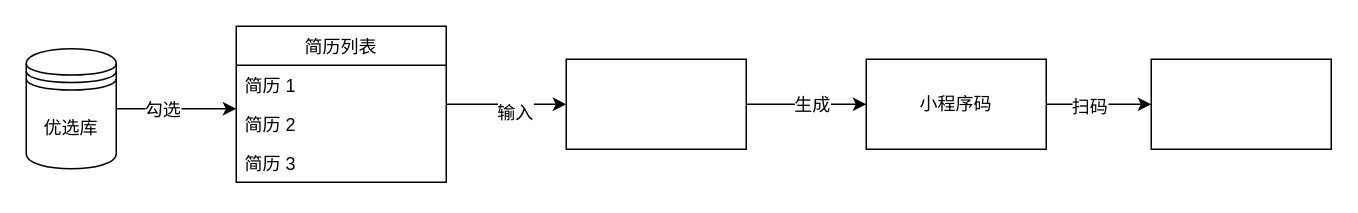
The diagram is 1358 pixels wide and 213 high, and some of its shapes have lost their labels. Each missing label, with the centre of its shape:
"小程序页面" belongs at (x=1240, y=103).
"评语" belongs at (x=655, y=103).
